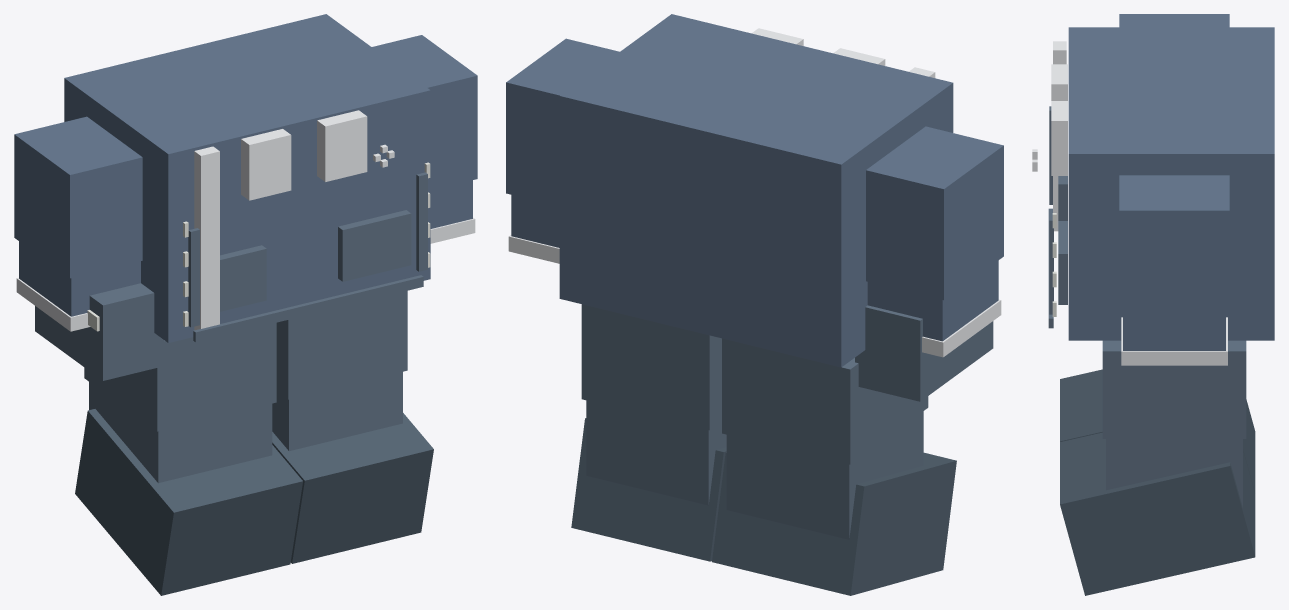
The model's file is student-navy.glb.
3 renders of one model, left to right at view 1: azimuth 30°, elevation 25°; view 2: azimuth 150°, elevation 25°; view 3: azimuth 270°, elevation 25°, orthographic. The views are drawn at different scales.
Parts seen in each view (by area): view 1: jacket, shoe-Right, upper-sleeve-Right, shoe-Left, trouser-Right, trouser-Left, lower-trouser-Right, upper-sleeve-Left, satchel, lower-trouser-Left, pocket-1, satchel-strap (+10 smaller); view 2: jacket, upper-sleeve-Right, shoe-Right, trouser-Right, trouser-Left, lower-trouser-Right, lower-trouser-Left, upper-sleeve-Left, shoe-Left, satchel, lower-sleeve-Right, lower-sleeve-Left (+2 smaller); view 3: jacket, shoe-Left, upper-sleeve-Left, trouser-Left, lower-trouser-Left, lower-sleeve-Left, shoe-Right, cuff-Left, upper-sleeve-Right, lapel-1, pocket-1, lapel--1 (+3 smaller).
Boxes of the visible parts, x1,y1,x2,y2 form: jacket: (64,14,430,342); shoe-Right: (75,409,302,595); upper-sleeve-Right: (14,116,142,278); shoe-Left: (272,413,433,563); trouser-Right: (84,322,276,431); trouser-Left: (276,290,407,399); lower-trouser-Right: (89,382,272,482); upper-sleeve-Left: (372,35,477,190); satchel: (35,283,163,380); lower-trouser-Left: (272,372,402,451); pocket-1: (338,210,411,281); satchel-strap: (194,146,219,330); jacket: (559,14,953,367); upper-sleeve-Right: (866,126,1003,300); shoe-Right: (712,452,956,595); trouser-Right: (722,338,928,464); trouser-Left: (581,304,721,430); lower-trouser-Right: (726,411,923,539); lower-trouser-Left: (586,400,726,505); upper-sleeve-Left: (506,38,619,206); shoe-Left: (571,418,726,561); satchel: (855,305,993,401); lower-sleeve-Right: (867,260,998,341); lower-sleeve-Left: (511,195,559,247); jacket: (1068,27,1274,340); shoe-Left: (1060,432,1255,595); upper-sleeve-Left: (1119,175,1229,312); trouser-Left: (1102,340,1246,438); lower-trouser-Left: (1106,439,1242,507); lower-sleeve-Left: (1123,312,1225,350); shoe-Right: (1060,369,1255,493); cuff-Left: (1121,317,1227,365); upper-sleeve-Right: (1119,14,1229,27); lapel-1: (1051,101,1067,175); pocket-1: (1058,221,1067,304); lapel--1: (1051,64,1067,100).
Size of the model in its own units: 1.07 by 1.13 by 0.559.
